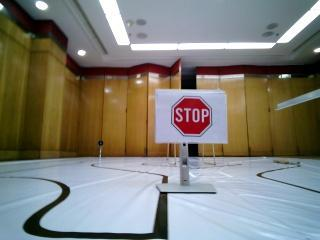stop: (160, 91, 227, 138)
